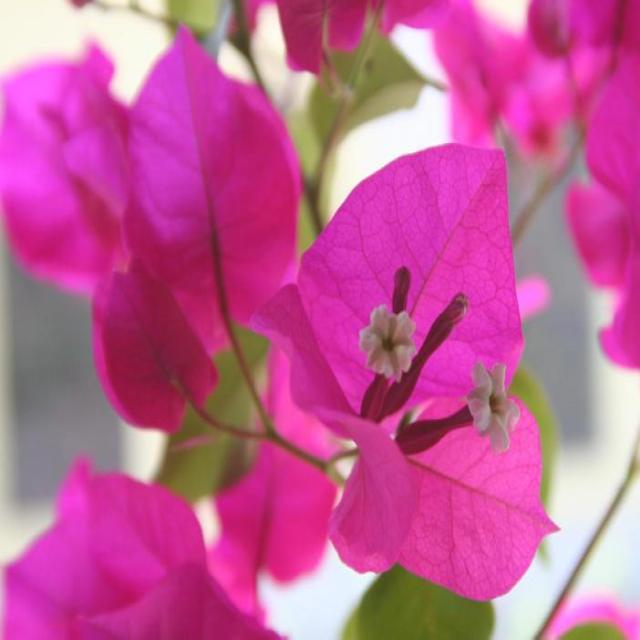bougainvillea: (18, 28, 614, 640)
